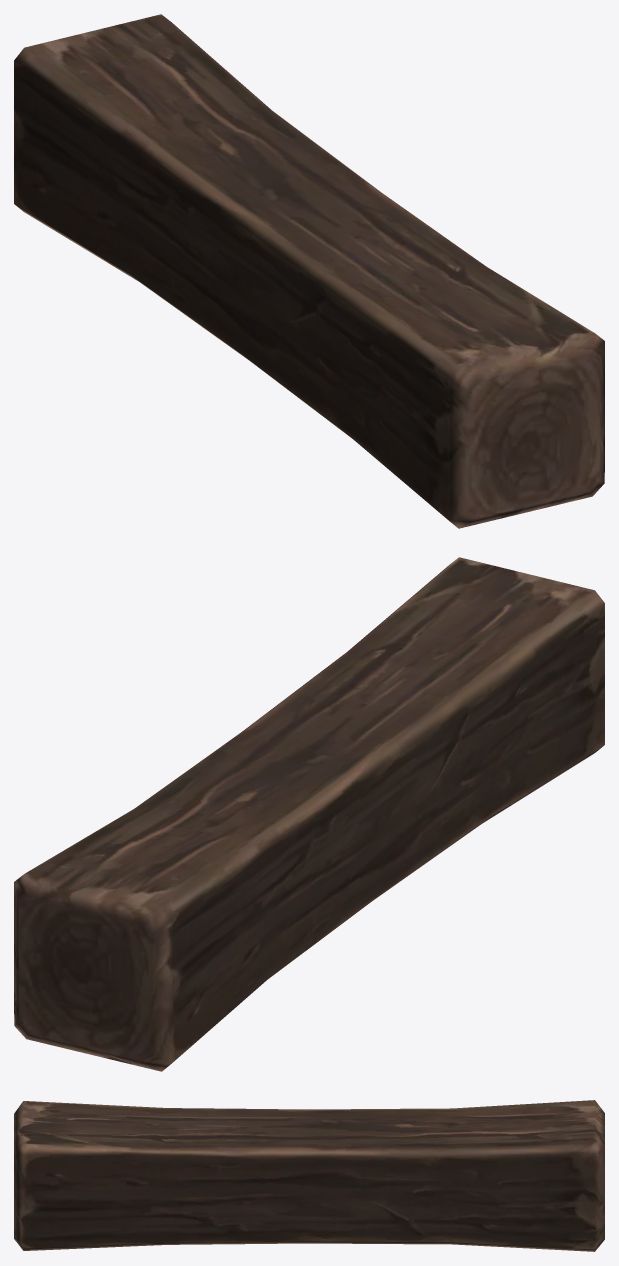
The picture shows the model from 3 angles, top to bottom: view 1: azimuth 30°, elevation 25°; view 2: azimuth 150°, elevation 25°; view 3: azimuth 270°, elevation 25°; orthographic projection. The views are drawn at different scales.
Bounding box in the file's own units: 1.05 × 1.05 × 5.17.
1 material, 1 textured.
